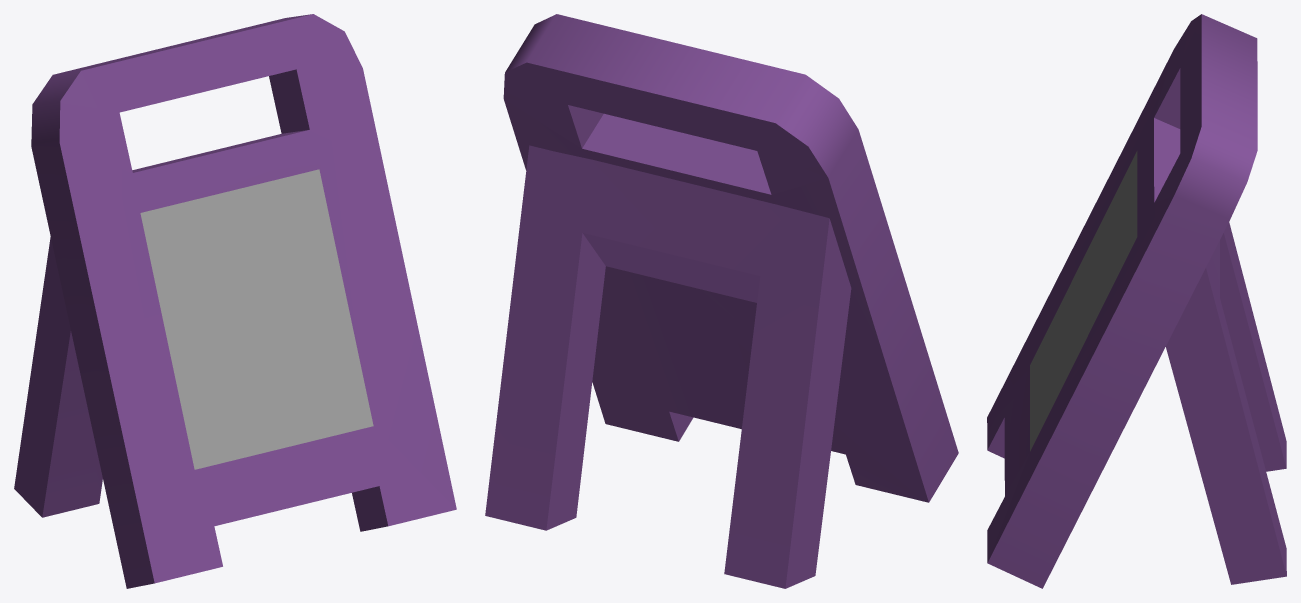
The model's file is platemenu_03.fbx.
The picture shows the model from 3 angles, left to right: view 1: azimuth 30°, elevation 25°; view 2: azimuth 150°, elevation 25°; view 3: azimuth 270°, elevation 25°; orthographic projection. The views are drawn at different scales.
Visible parts, largest first — view 1: platemenu_03; view 2: platemenu_03; view 3: platemenu_03.
Boxes of the visible parts, x1=… form: platemenu_03: x1=14, y1=14, x2=456, y2=588; platemenu_03: x1=485, y1=14, x2=958, y2=588; platemenu_03: x1=987, y1=14, x2=1286, y2=588.
Size of the model in its own units: 82.07 by 117 by 70.95.
